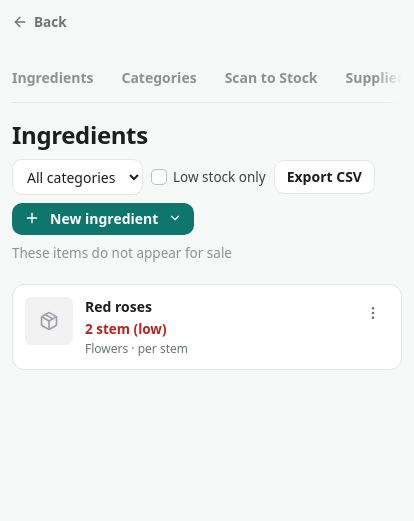
Scenario: phone card lists › ingredients: stock shows on the card and the stock actions stay in its menu
The width and height of the screenshot is (414, 521).
Check: the list with class "space-y-2" is shown, box x1=12 y1=284 x2=402 y2=370
Check: the text "Red roses" is shown, box x1=85 y1=296 x2=152 y2=316
Click the button named "More actions for Red roses" at (373, 312), box x1=357 y1=296 x2=389 y2=328
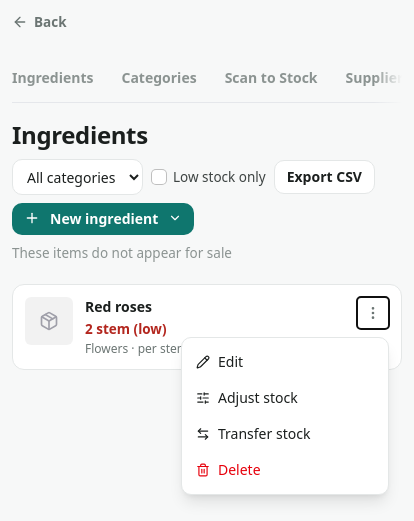
Check: the menu item "Edit" is shown, box x1=182 y1=344 x2=388 y2=380
Check: the menu item "Adjust stock" is shown, box x1=182 y1=380 x2=388 y2=416
Check: the menu item "Transfer stock" is shown, box x1=182 y1=416 x2=388 y2=452
